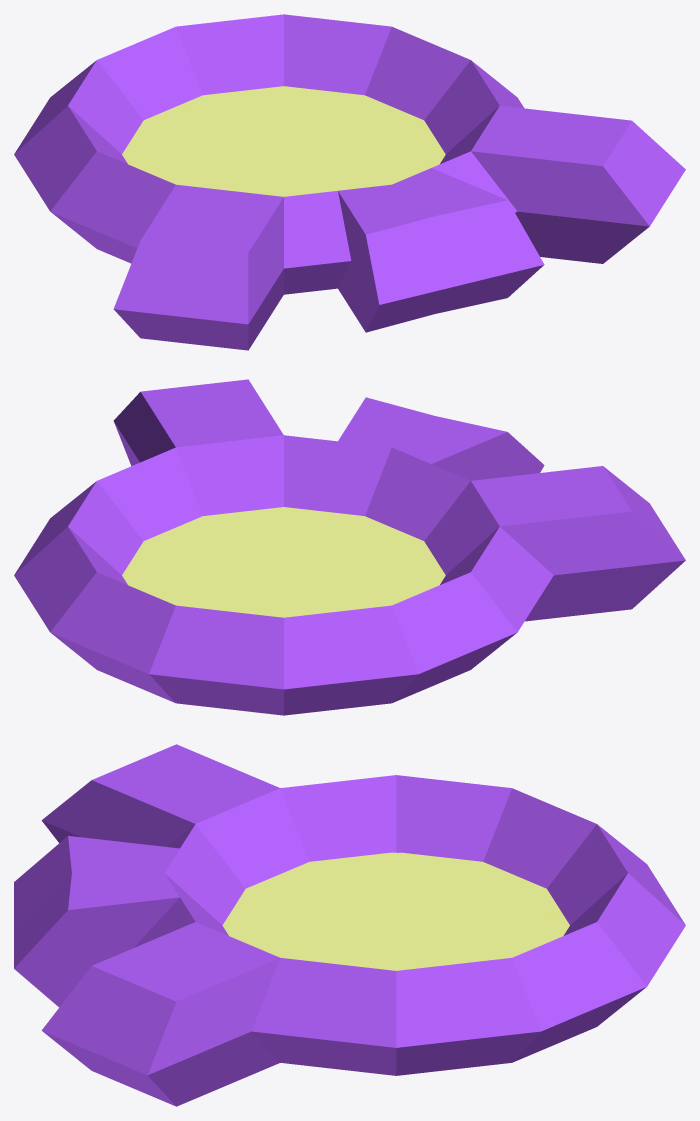
File: GoalBase.fbx
3 views of the same model, one above another, from view 1: azimuth 30°, elevation 25°; view 2: azimuth 150°, elevation 25°; view 3: azimuth 270°, elevation 25° (orthographic). The views are drawn at different scales.
Parts seen in each view (by area): view 1: GoalBase; view 2: GoalBase; view 3: GoalBase.
Boxes of the visible parts, x1,y1,x2,y2 form: GoalBase: (14, 14, 685, 350); GoalBase: (14, 379, 685, 715); GoalBase: (14, 744, 685, 1106).
Bounding box in the file's own units: 306 × 50 × 290.
Materials: 1 (1 with a texture image).
